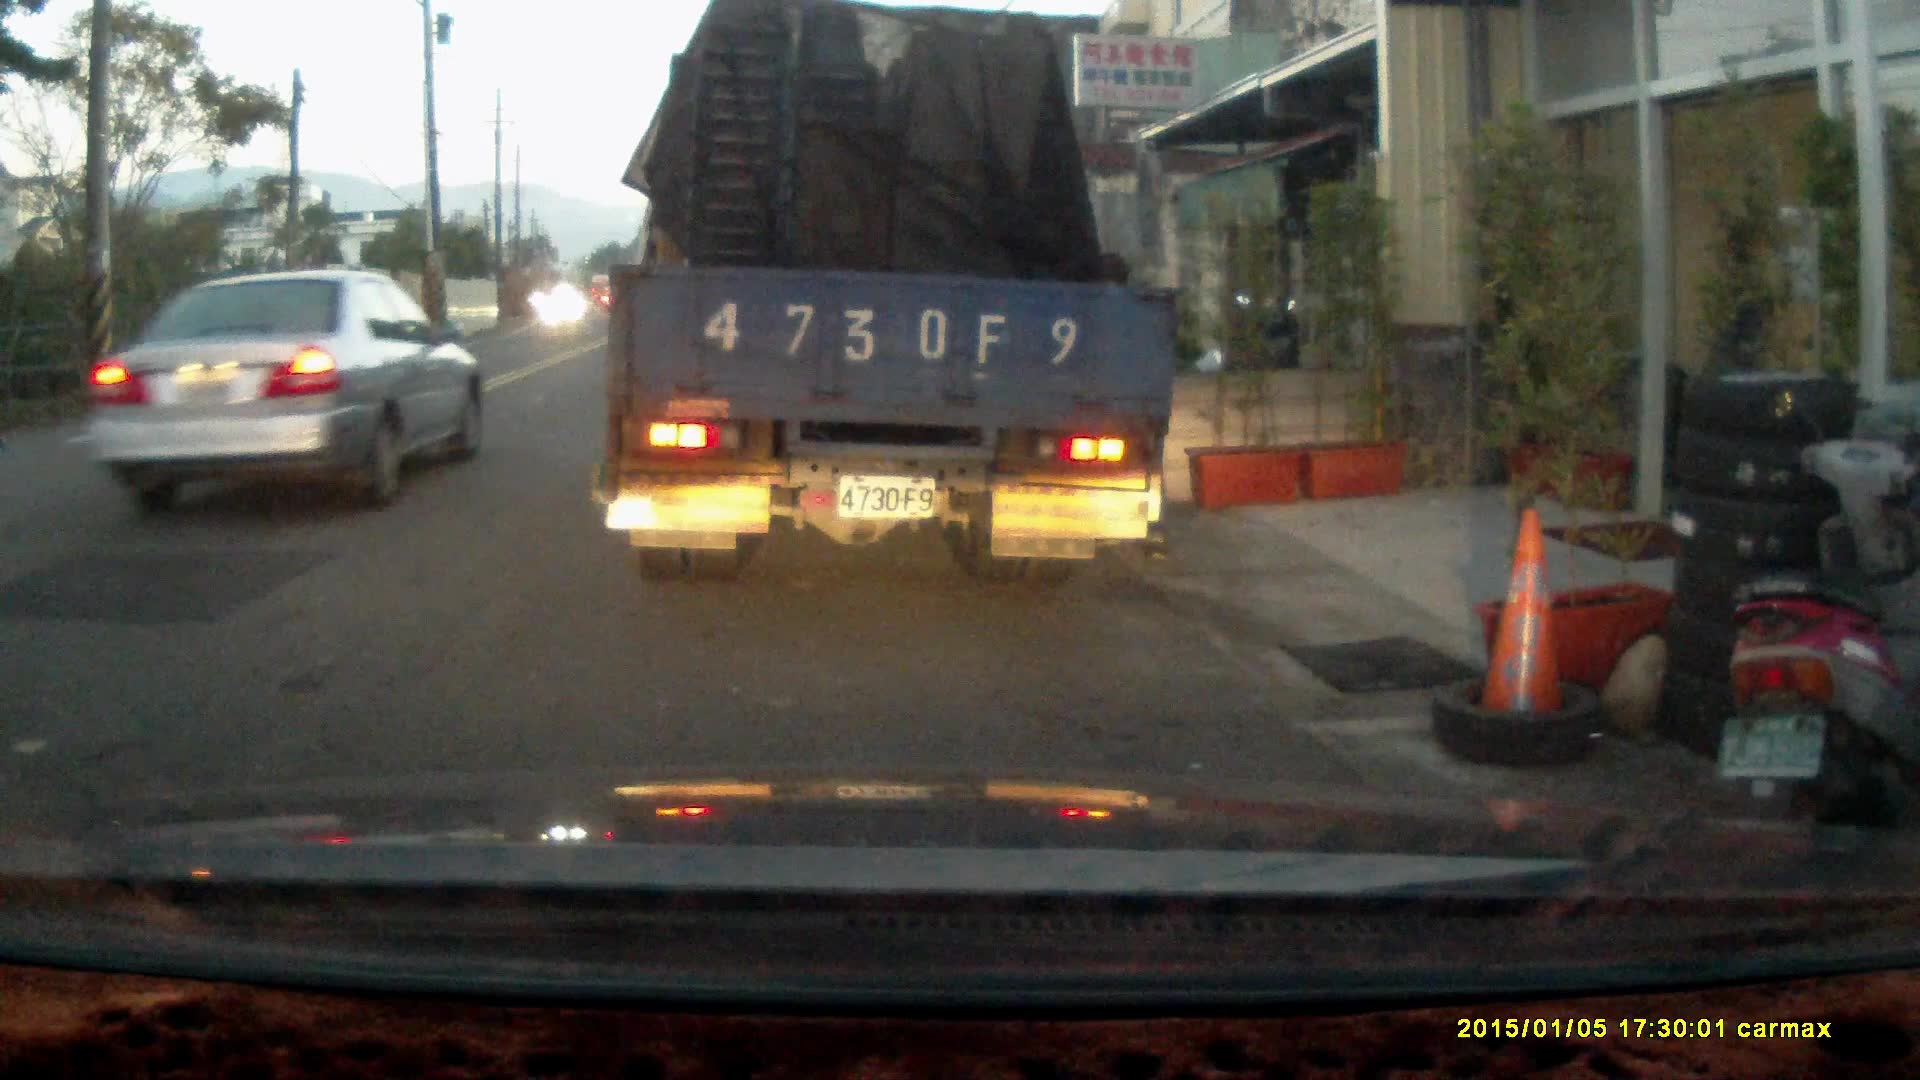pedestrian: (1696, 226, 1784, 476)
vehicle: (605, 23, 1188, 572), (83, 269, 486, 502)
